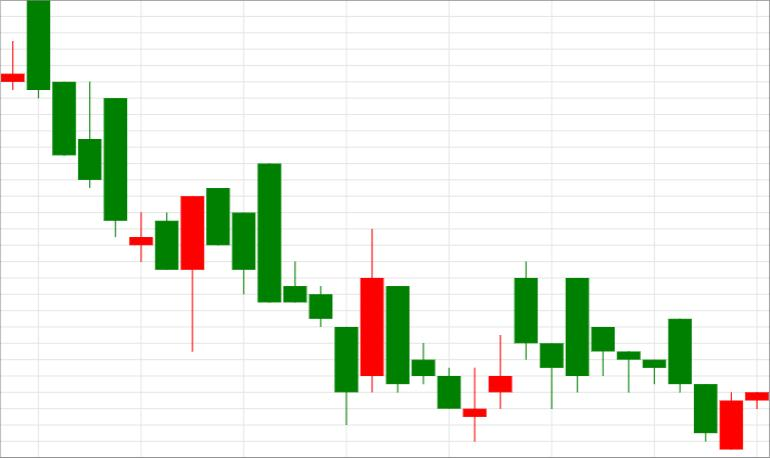bullish_engulfing_rise: (26, 1, 204, 351)
morning_star_rise: (206, 163, 512, 441)
